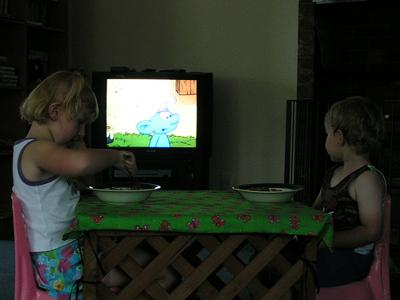person: (311, 98, 385, 290)
